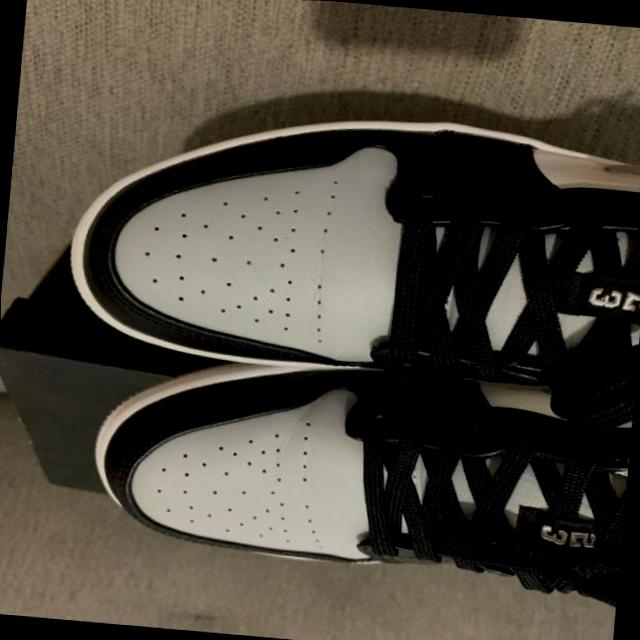nike_fake_jordan: (57, 89, 640, 395), (81, 343, 636, 594)
